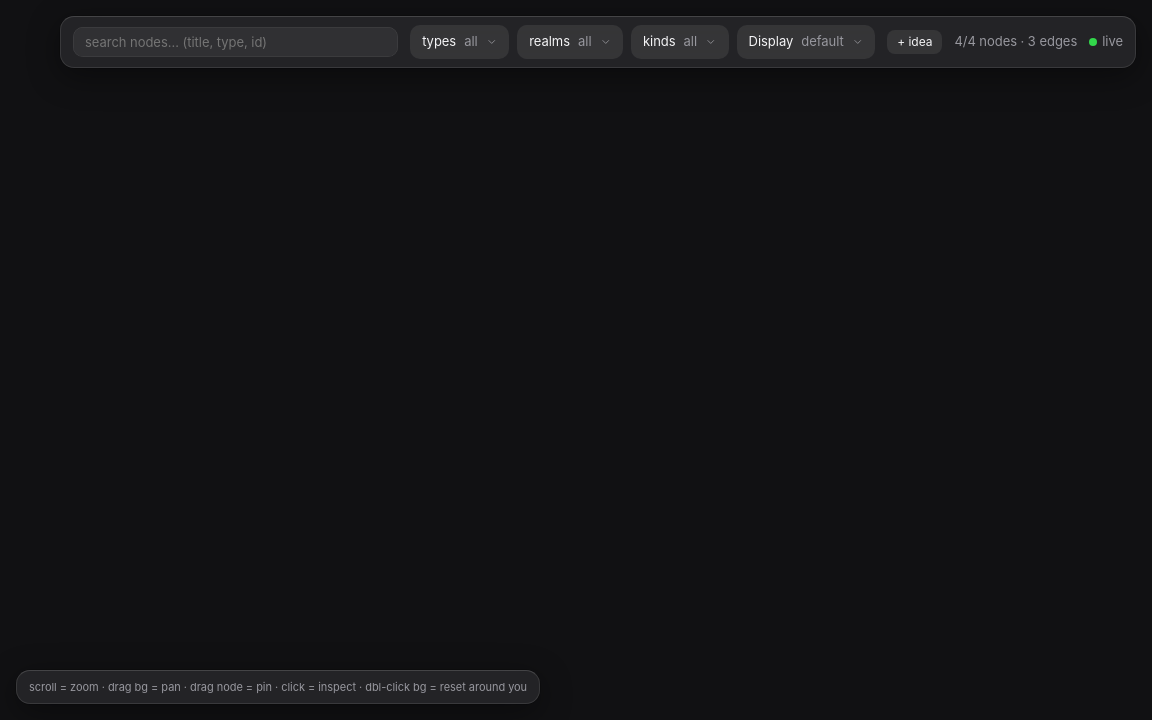
Test: adding an idea from the map › will not save an idea with no title
The width and height of the screenshot is (1152, 720).
Expected: the text "4/4 nodes · 3 edges" is shown, [954,32,1077,52]
Click the button "+ idea" at (915, 42), box [887,30,942,54]
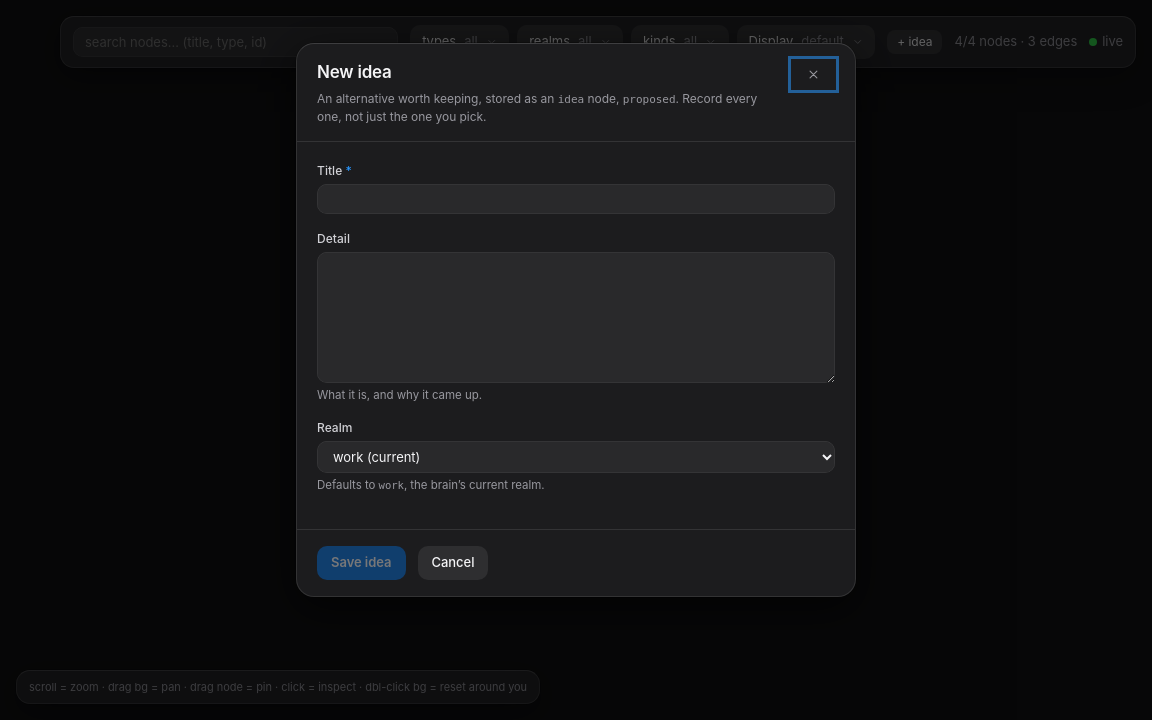
Expected: the heading "New idea" is shown, [317,62,392,82]
Expected: the button "Save idea" is disabled, [317,546,406,580]
